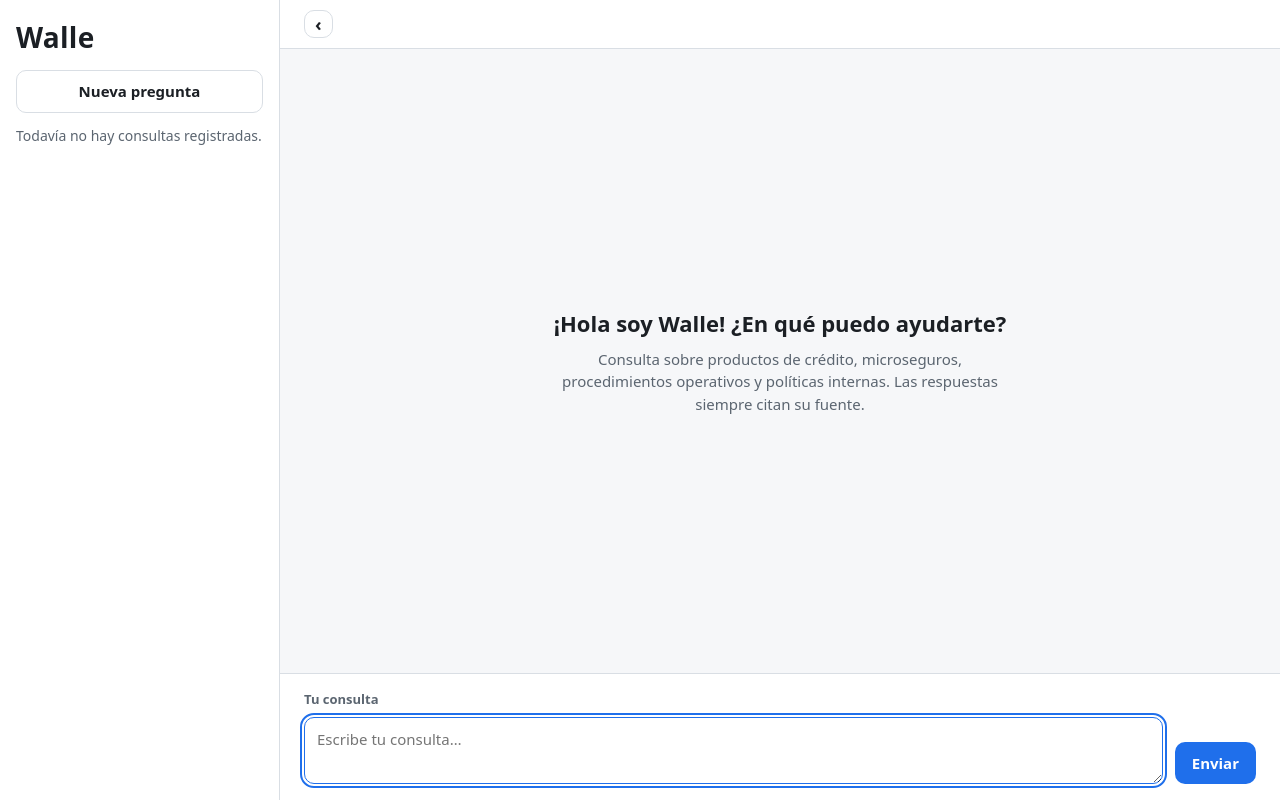
Test: Accesibilidad de la interfaz › el aviso de error se anuncia con una región aria-live
This screenshot has width=1280, height=800.
Type "consulta" into the text box labelled "Tu consulta".
click(733, 750); type("consulta")  # box left=304, top=717, right=1163, bottom=784
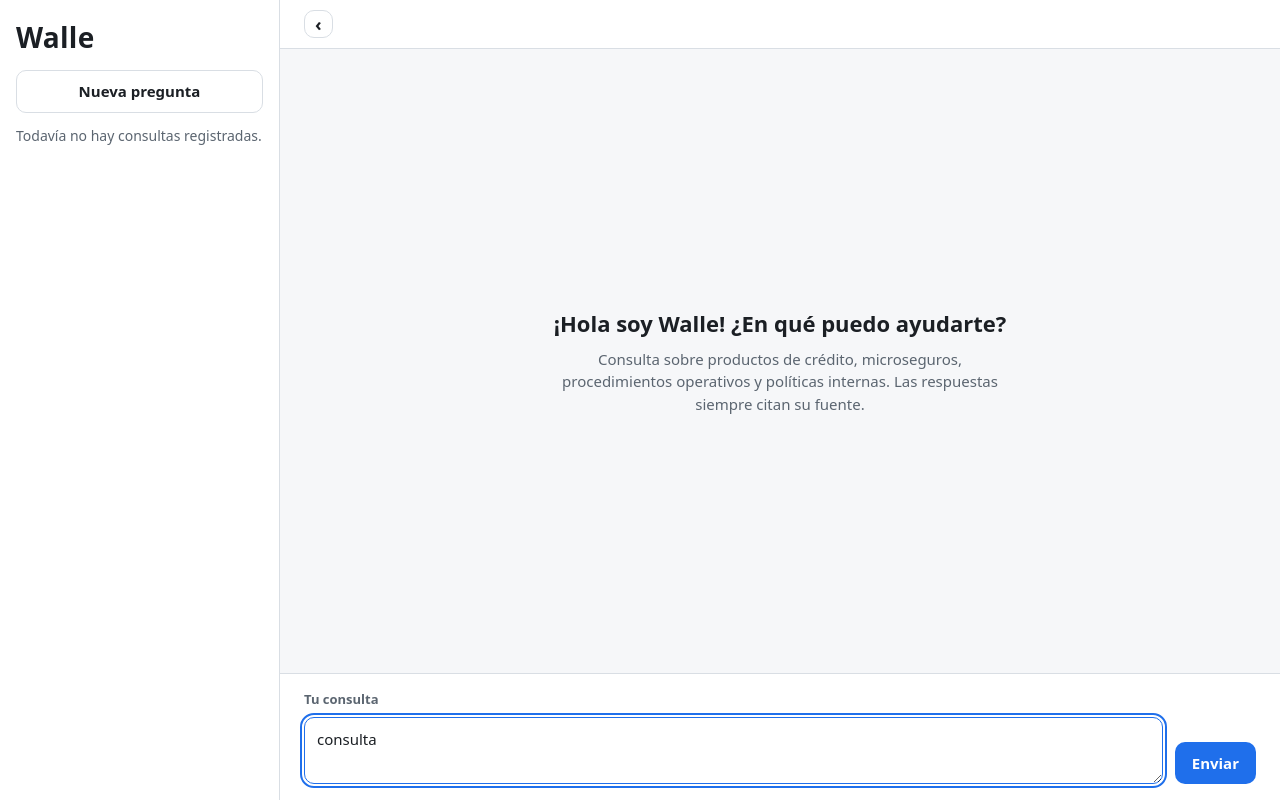
Click the button "Enviar".
click(1215, 763)  # box left=1175, top=742, right=1256, bottom=784
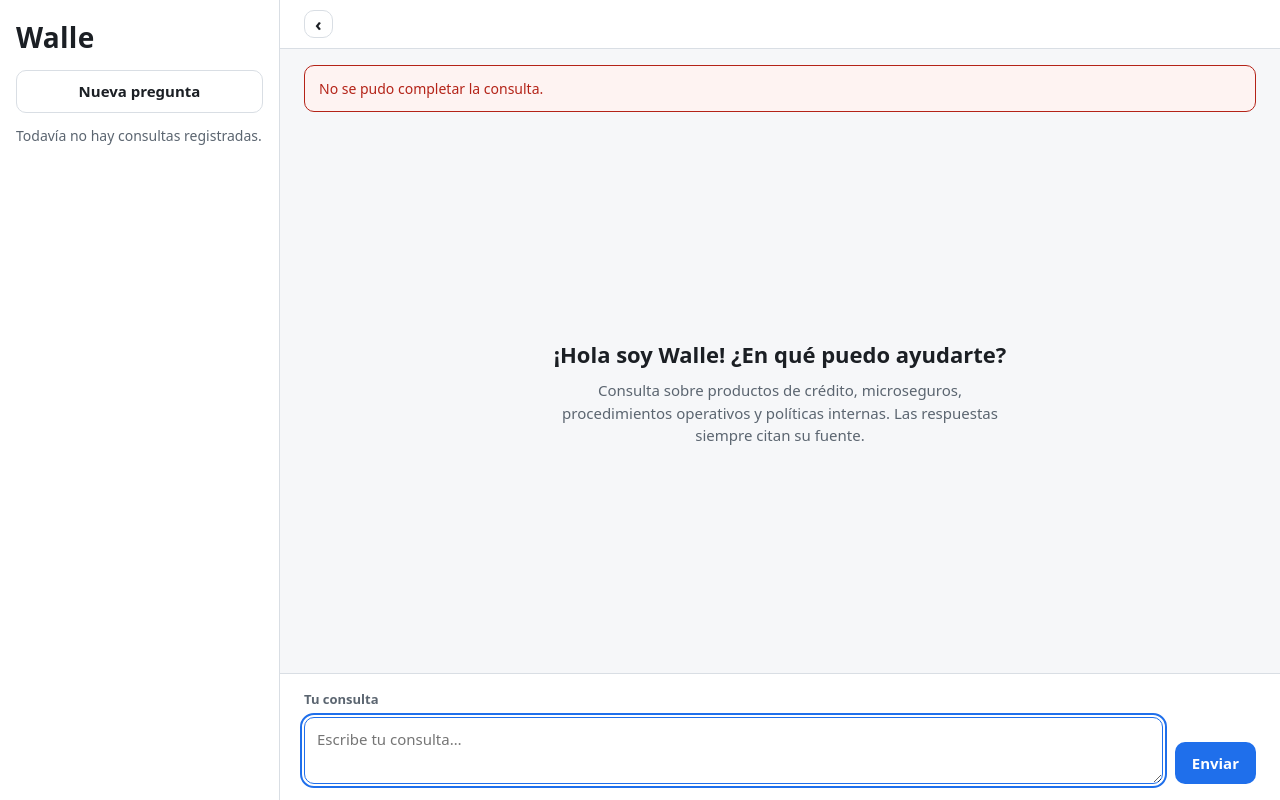
Expected: the message reads "No se pudo completar la consulta.", left=319, top=79, right=543, bottom=98
